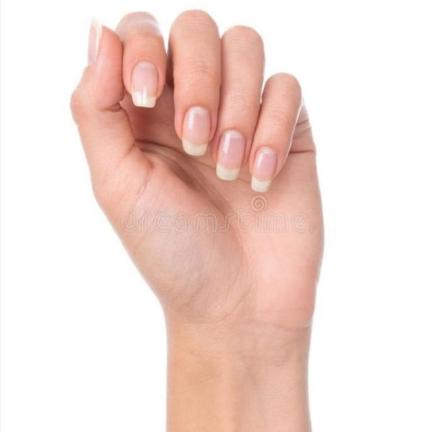Nail: (216, 131, 246, 181), (182, 107, 211, 156), (131, 61, 158, 107), (251, 147, 277, 192), (87, 17, 102, 65)
